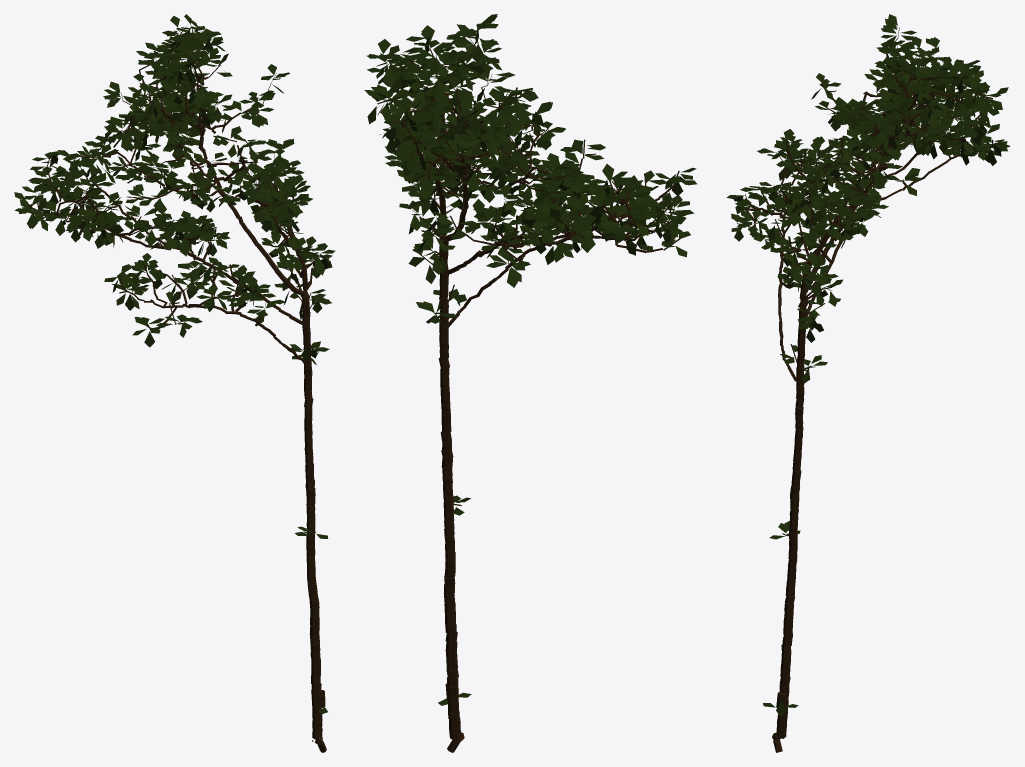
Rendered from tree_262.obj.
3 views of the same model, side by side, from view 1: azimuth 30°, elevation 25°; view 2: azimuth 150°, elevation 25°; view 3: azimuth 270°, elevation 25° (orthographic). The views are drawn at different scales.
Parts seen in each view (by area): view 1: Leaves, TrunkAndBranches; view 2: Leaves, TrunkAndBranches; view 3: Leaves, TrunkAndBranches.
Part boxes in pixels (x1,y1,x2,y2): Leaves: (14, 14, 335, 713); TrunkAndBranches: (27, 23, 326, 752); Leaves: (364, 14, 697, 705); TrunkAndBranches: (377, 23, 680, 752); Leaves: (726, 14, 1009, 716); TrunkAndBranches: (737, 27, 993, 752).
Bounding box in the file's own units: 5.23 × 12.47 × 4.64.
